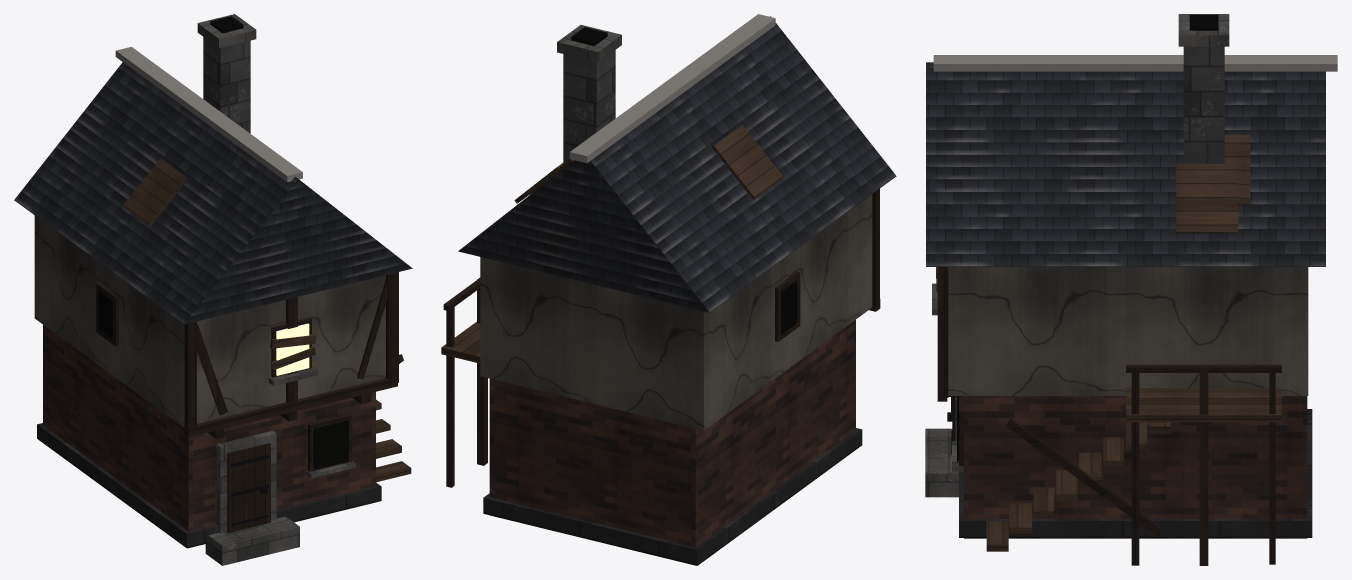
Rendered from CasaS13.gltf.
The picture shows the model from 3 angles, left to right: view 1: azimuth 30°, elevation 25°; view 2: azimuth 150°, elevation 25°; view 3: azimuth 270°, elevation 25°; orthographic projection. The views are drawn at different scales.
Parts seen in each view (by area): view 1: CasaS13; view 2: CasaS13; view 3: CasaS13.
Part boxes in pixels (x1,y1,x2,y2): CasaS13: (14,14,412,565); CasaS13: (441,14,896,565); CasaS13: (925,14,1337,565).
Size of the model in its own units: 6.49 by 10.05 by 7.47.
Materials: 12 (8 with a texture image).
